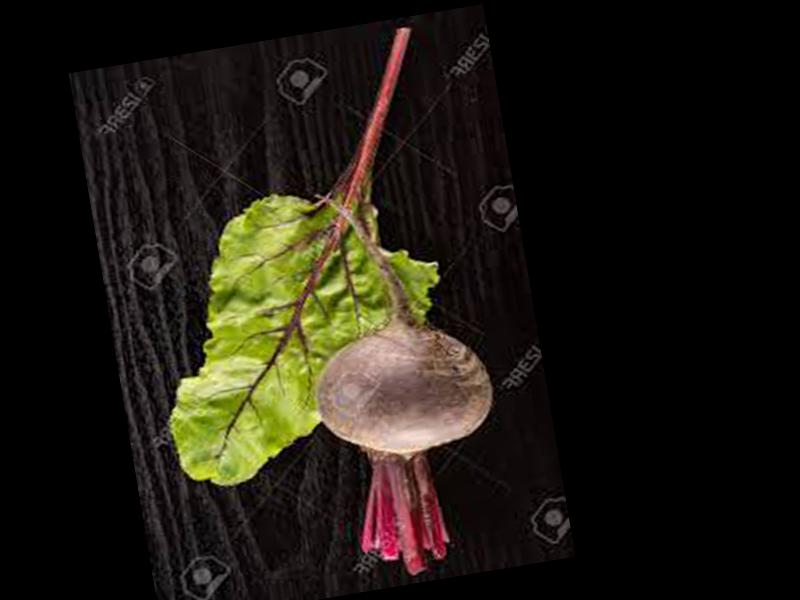Beet: (283, 172, 520, 586)
